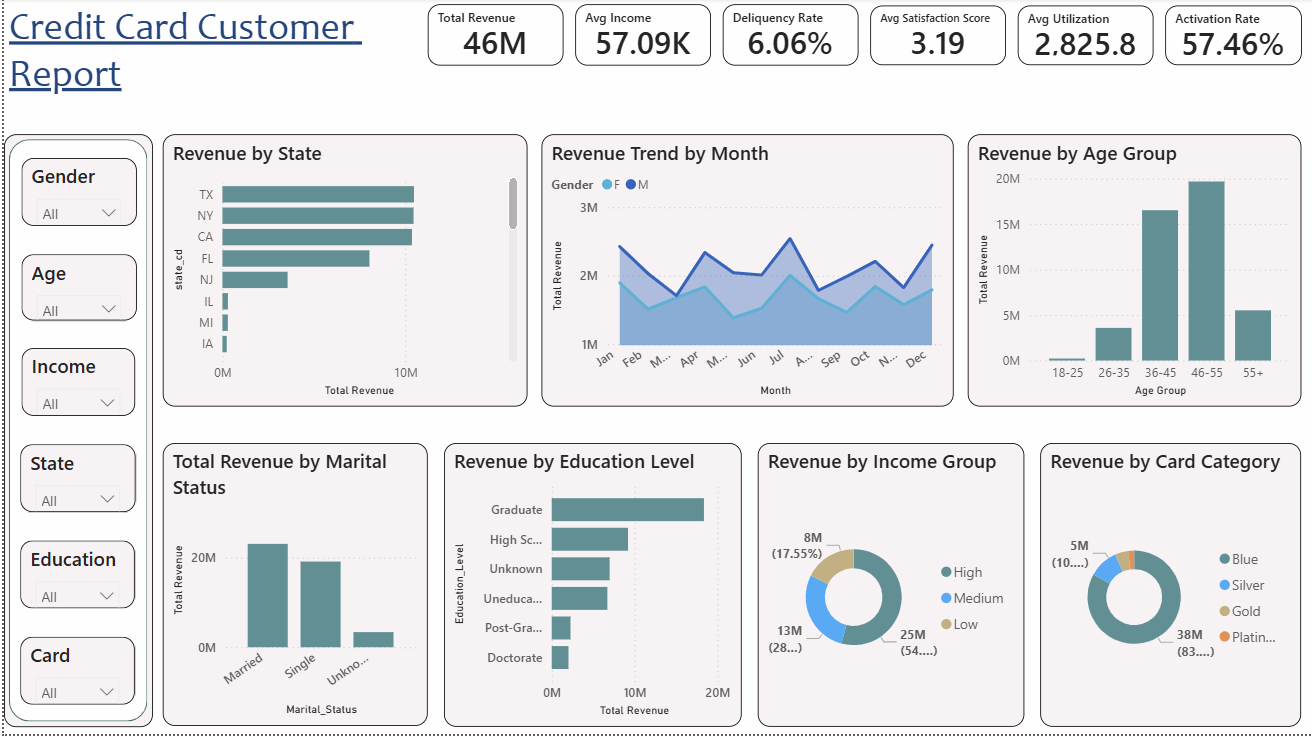

This screenshot's page, from the dashboard's own definition file:
{"tool":"powerbi","page":{"name":"Customer Report","canvas":[1280,720],"ordinal":0},"visuals":[{"type":"shape","box":[2.6,89.7,144.9,623.1],"z":0},{"type":"textbox","box":[10.3,0,529.5,65.4],"z":1000},{"type":"slicer","title":"Gender","fields":{"Values":["customer.Gender"]},"box":[16.7,112.8,111.5,66.7],"z":2000},{"type":"slicer","title":"Age ","fields":{"Values":["customer.Age group "]},"box":[16.7,200,111.5,65.4],"z":3000},{"type":"slicer","title":"Income","fields":{"Values":["customer.Income Group"]},"box":[19.2,283.3,111.5,65.4],"z":4000},{"type":"slicer","title":"State","fields":{"Values":["customer.state_cd"]},"box":[16.7,367.9,111.5,65.4],"z":5000},{"type":"slicer","title":"Education","fields":{"Values":["customer.Education_Level"]},"box":[16.7,455.1,111.5,65.4],"z":6000},{"type":"slicer","title":"Card","fields":{"Values":["CreditCard.Card_Category"]},"box":[16.7,543.6,111.5,65.4],"z":7000},{"type":"slicer","title":"Customer","fields":{"Values":["customer.Customer_Job"]},"box":[16.7,633.3,111.5,65.4],"z":8000},{"type":"card","title":"Total Customers","fields":{"Values":["CreditCard.total customers"]},"box":[459,2.6,123.1,60.3],"z":9000},{"type":"card","title":"Total Revenue","fields":{"Values":["CreditCard.Total Revenue"]},"box":[591,2.6,123.1,60.3],"z":10000},{"type":"card","title":"Avg Income","fields":{"Values":["Calendar.Average Income"]},"box":[724.4,5.1,123.1,60.3],"z":11000},{"type":"card","title":"Avg Credit Limit","fields":{"Values":["Calendar.Average Credit Limit"]},"box":[862.8,3.8,130.8,60.3],"z":12000},{"type":"card","title":"CSS Score Avg","fields":{"Values":["Calendar.CSS Score Average"]},"box":[1146.2,3.8,123.1,60.3],"z":13000},{"type":"card","title":"Avg Utilization","fields":{"Values":["Sum(CreditCard.Avg_Utilization_Ratio)"]},"box":[464.7,77,162.6,59.9],"z":14000},{"type":"card","title":"Avg Credit Score","fields":{"Values":["Calendar.Average Credit Score"]},"box":[1000,3.8,134.6,60.3],"z":15000},{"type":"card","title":"Total Annual Fees","fields":{"Values":["Sum(CreditCard.Annual_Fees)"]},"box":[642,77,145.5,59.9],"z":16000},{"type":"card","title":"Activation Rate","fields":{"Values":["Calendar.Activation Rate"]},"box":[805.8,77,134.5,59.9],"z":17000},{"type":"card","title":"Deliquency Rate","fields":{"Values":["Calendar.Delinquency Rate"]},"box":[956.3,77,134.5,59.9],"z":18000},{"type":"card","title":" Revenue Current Week","fields":{"Values":["Calendar.Revenue current week"]},"box":[1106.7,77,160.2,59.9],"z":19000},{"type":"donutChart","title":" Revenue by Gender","fields":{"Category":["customer.Gender"],"Y":["CreditCard.Total Revenue"]},"box":[157.7,83.3,242.3,182.1],"z":20000},{"type":"clusteredColumnChart","fields":{"Category":["customer.Age group "],"Y":["CreditCard.Total Revenue"]},"box":[891,148.7,378.2,156.4],"z":21000},{"type":"donutChart","title":"Revenue by Income Group","fields":{"Y":["CreditCard.Total Revenue"],"Category":["customer.Income Group"]},"box":[156.4,279.5,242.3,200],"z":22000},{"type":"clusteredBarChart","title":"Revenue by State","fields":{"Y":["CreditCard.Total Revenue"],"Category":["customer.state_cd"]},"box":[418.2,146.7,457.3,321.6],"z":23000},{"type":"clusteredBarChart","title":"Total Revenue by Marital Status","fields":{"Category":["customer.Marital_Status"],"Y":["CreditCard.Total Revenue"]},"box":[889.7,316.7,379.5,162.8],"z":24000},{"type":"donutChart","title":"Revenue by Card Category","fields":{"Category":["CreditCard.Card_Category"],"Y":["CreditCard.Total Revenue"]},"box":[156.4,493.6,293.6,221.8],"z":25000},{"type":"barChart","title":"Revenue by Education Level","fields":{"Y":["CreditCard.Total Revenue"],"Category":["customer.Education_Level"]},"box":[467.9,485.9,317.9,226.9],"z":26000},{"type":"lineChart","title":"Revenue Trend by Month","fields":{"Category":["Calendar.MonthNumber"],"Y2":["CreditCard.Total Revenue"]},"box":[806.4,488.5,461.5,226.9],"z":27000}]}

Visuals, with their boxes in screenshot pixels (x1, y1, x2, y2), scaled from the page's 1280x720 canvas onto the 1312x737 screenshot:
shape: 3, 92, 151, 730
textbox: 11, 0, 553, 67
"Gender" slicer: 17, 115, 131, 184
"Age " slicer: 17, 205, 131, 272
"Income" slicer: 20, 290, 134, 357
"State" slicer: 17, 377, 131, 444
"Education" slicer: 17, 466, 131, 533
"Card" slicer: 17, 556, 131, 623
"Customer" slicer: 17, 648, 131, 715
"Total Customers" card: 470, 3, 597, 64
"Total Revenue" card: 606, 3, 732, 64
"Avg Income" card: 743, 5, 869, 67
"Avg Credit Limit" card: 884, 4, 1018, 66
"CSS Score Avg" card: 1175, 4, 1301, 66
"Avg Utilization" card: 476, 79, 643, 140
"Avg Credit Score" card: 1025, 4, 1163, 66
"Total Annual Fees" card: 658, 79, 807, 140
"Activation Rate" card: 826, 79, 964, 140
"Deliquency Rate" card: 980, 79, 1118, 140
" Revenue Current Week" card: 1134, 79, 1299, 140
" Revenue by Gender" donutChart: 162, 85, 410, 272
clusteredColumnChart - customer.Age group  x CreditCard.Total Revenue: 913, 152, 1301, 312
"Revenue by Income Group" donutChart: 160, 286, 409, 491
"Revenue by State" clusteredBarChart: 429, 150, 897, 479
"Total Revenue by Marital Status" clusteredBarChart: 912, 324, 1301, 491
"Revenue by Card Category" donutChart: 160, 505, 461, 732
"Revenue by Education Level" barChart: 480, 497, 805, 730
"Revenue Trend by Month" lineChart: 827, 500, 1300, 732
